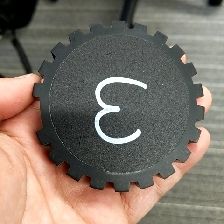gear: (30, 19, 206, 194)
missing: (32, 82, 52, 146)
